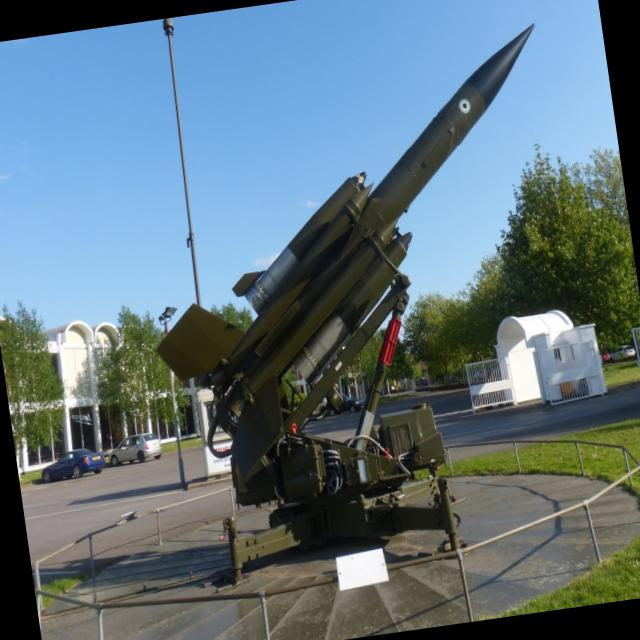rocket: (119, 21, 587, 454)
